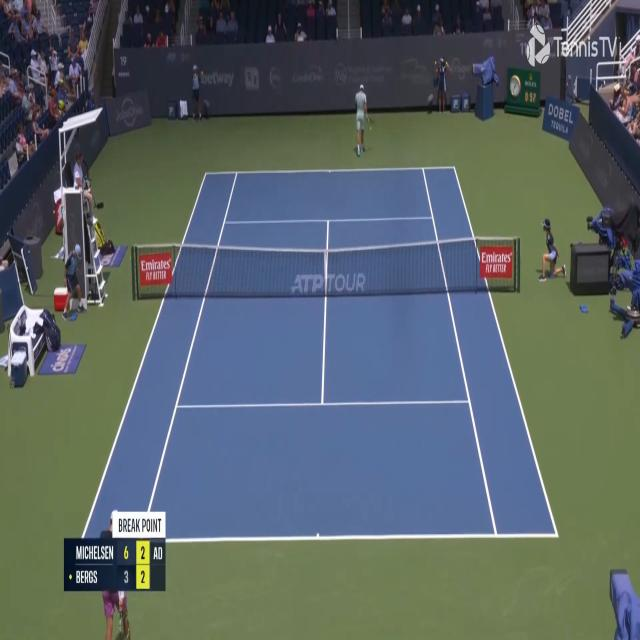tennis-player: (354, 80, 374, 157)
